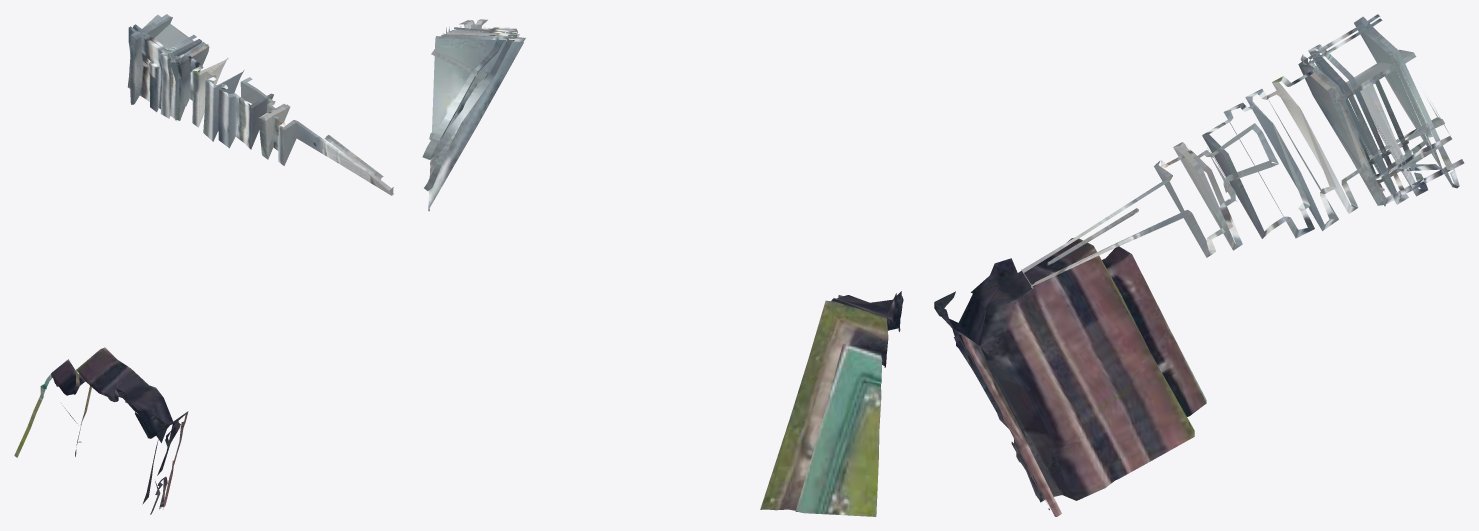
File: AJVsH2xz1WYRAidBKxtUiNVI4V4HdWeA4xpbCotD8qAW-0aDFoxLi7zuij1st9wH9nBKYqI5lKS-G5W-dvCCWKD1slLWeTIjNdXZTrVLncWLkdogzSjGZPhYkJSm13NQCvsXuVGgMrYIwtT2XA7Suk0NkwbO.glb
3 views of the same model, side by side, from view 1: azimuth 30°, elevation 25°; view 2: azimuth 150°, elevation 25°; view 3: azimuth 270°, elevation 25° (orthographic). The views are drawn at different scales.
Size of the model in its own units: 44.56 by 49.38 by 42.44.
Materials: 1 (1 with a texture image).
